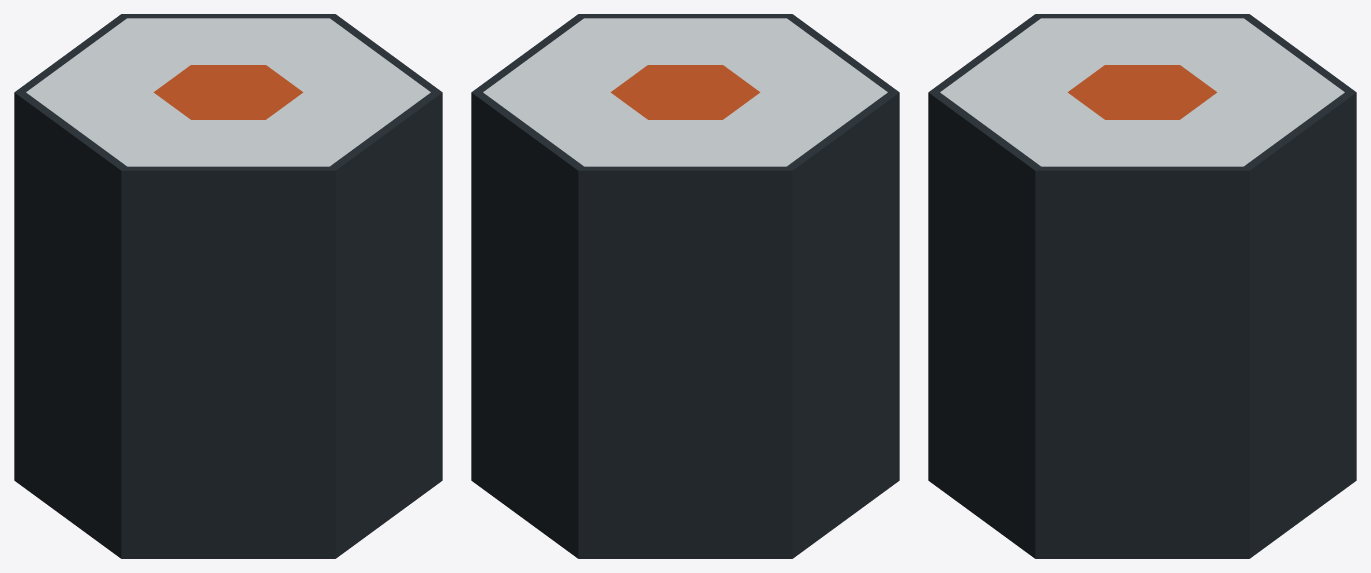
Rendered from Maki.obj.
3 renders of one model, left to right at view 1: azimuth 30°, elevation 25°; view 2: azimuth 150°, elevation 25°; view 3: azimuth 270°, elevation 25°, orthographic.
Parts seen in each view (by area): view 1: Cylinder.020; view 2: Cylinder.020; view 3: Cylinder.020.
Part boxes in pixels (<box>): Cylinder.020: <box>14,14,442,558</box>; Cylinder.020: <box>471,14,899,558</box>; Cylinder.020: <box>928,14,1356,558</box>.
Bounding box in the file's own units: 1.73 × 2 × 2.
Materials: 1 (1 with a texture image).
